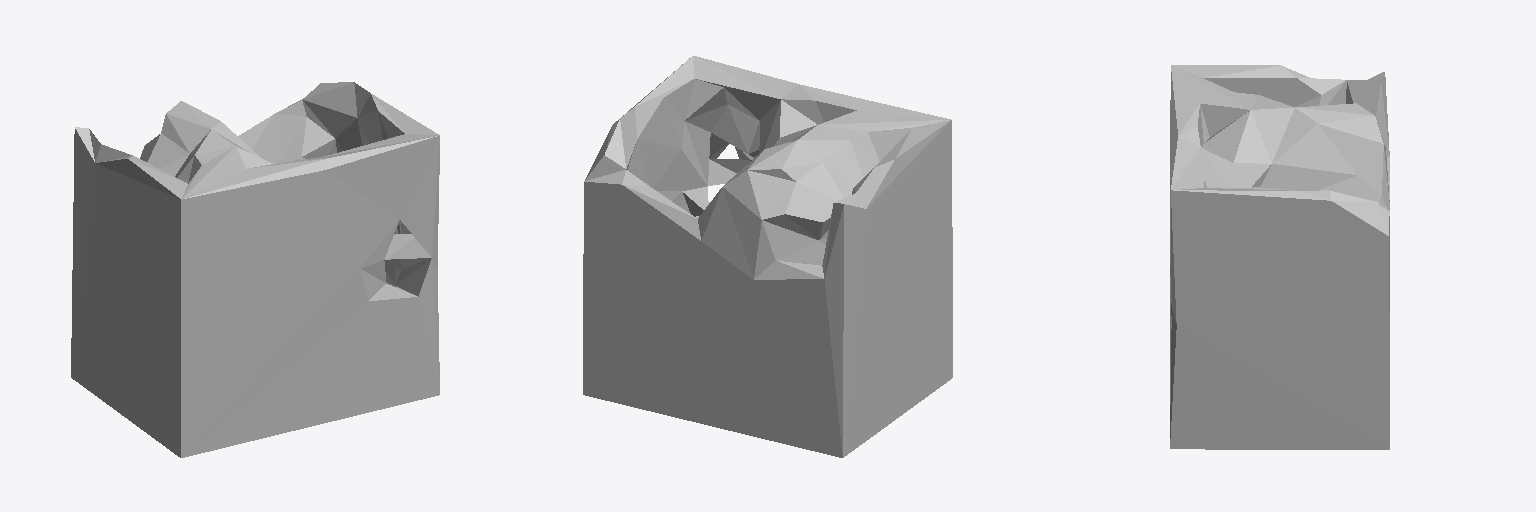
3 renders of one model, left to right at view 1: azimuth 30°, elevation 25°; view 2: azimuth 150°, elevation 25°; view 3: azimuth 270°, elevation 25°, orthographic.
Visible parts, largest first — view 1: Liquid_Domain; view 2: Liquid_Domain; view 3: Liquid_Domain.
Part boxes in pixels (bbox=[...]): Liquid_Domain: bbox=[71, 82, 439, 457]; Liquid_Domain: bbox=[583, 56, 952, 457]; Liquid_Domain: bbox=[1170, 65, 1389, 449].
Bounding box in the file's own units: 16.93 × 16.2 × 12.42.